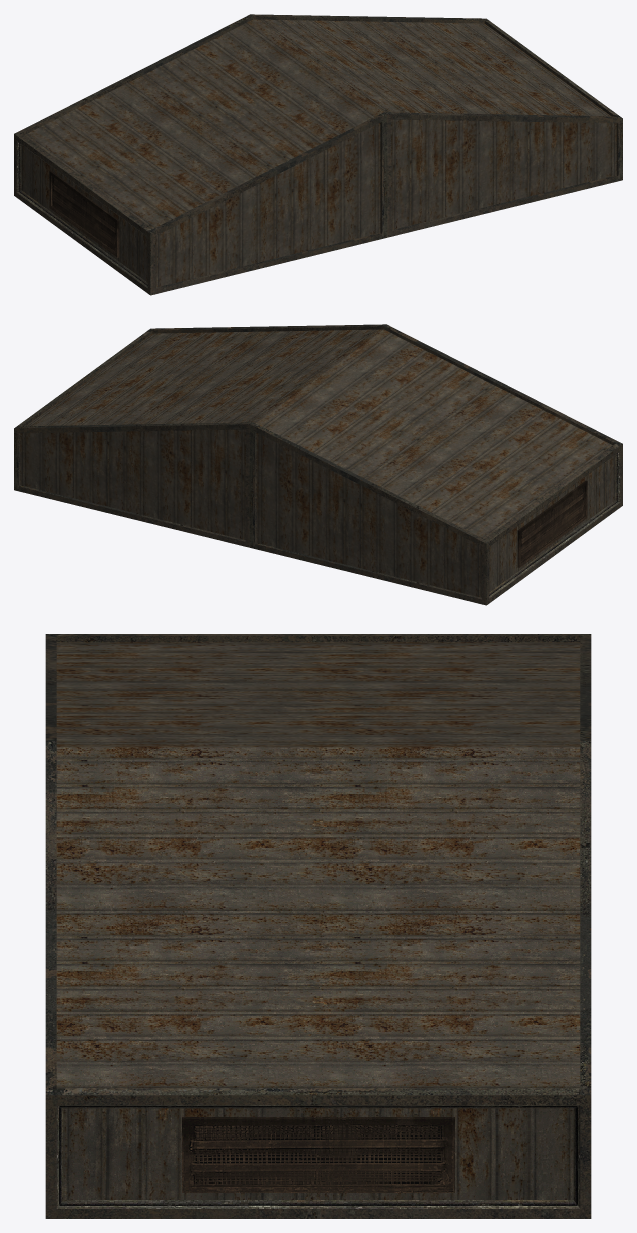
The model's file is roof_mh_4_b_1.glb.
3 renders of one model, top to bottom at view 1: azimuth 30°, elevation 25°; view 2: azimuth 150°, elevation 25°; view 3: azimuth 270°, elevation 25°, orthographic. The views are drawn at different scales.
Parts seen in each view (by area): view 1: roof_mh_4_b_1; view 2: roof_mh_4_b_1; view 3: roof_mh_4_b_1.
Part boxes in pixels (x1=…): roof_mh_4_b_1: x1=14, y1=14, x2=622, y2=295; roof_mh_4_b_1: x1=14, y1=324, x2=622, y2=605; roof_mh_4_b_1: x1=45, y1=634, x2=591, y2=1218.
Bounding box in the file's own units: 8 × 2 × 4.
Materials: 6 (6 with a texture image).
